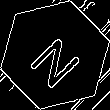N_NE: (23, 23, 87, 87)
